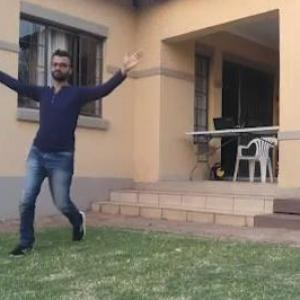takeoff: (1, 48, 140, 260)
